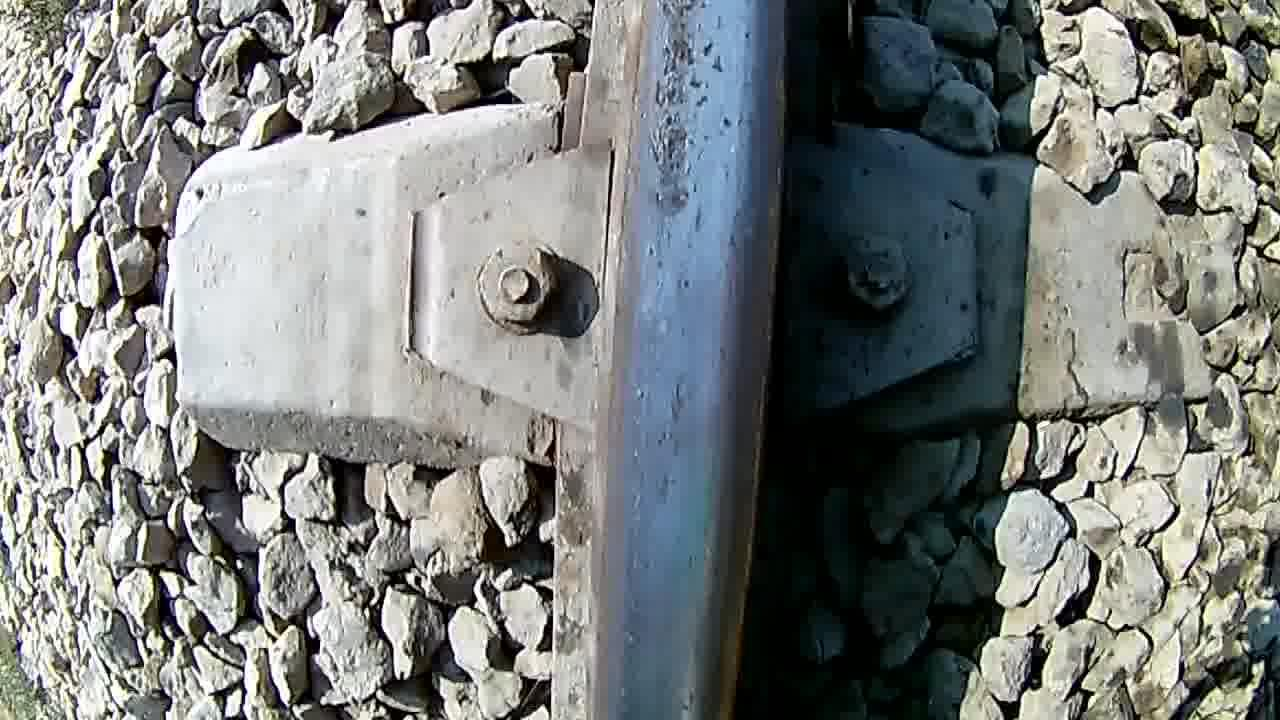crack: (585, 0, 783, 720)
